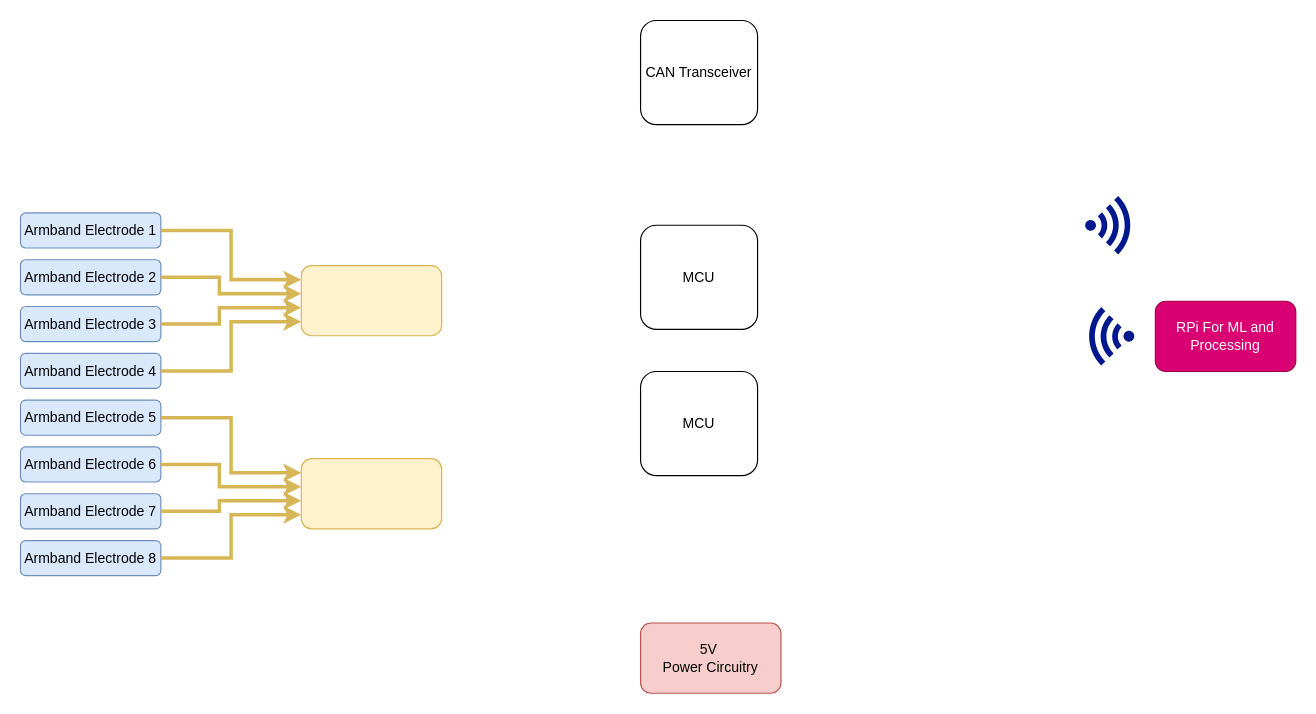
Image size: 1316x714. Some labels were removed from this diagram. The centre of each missing label's shape, as x and y in pixels:
External ADC 1: the point at 371,300
External ADC 2: the point at 371,493
